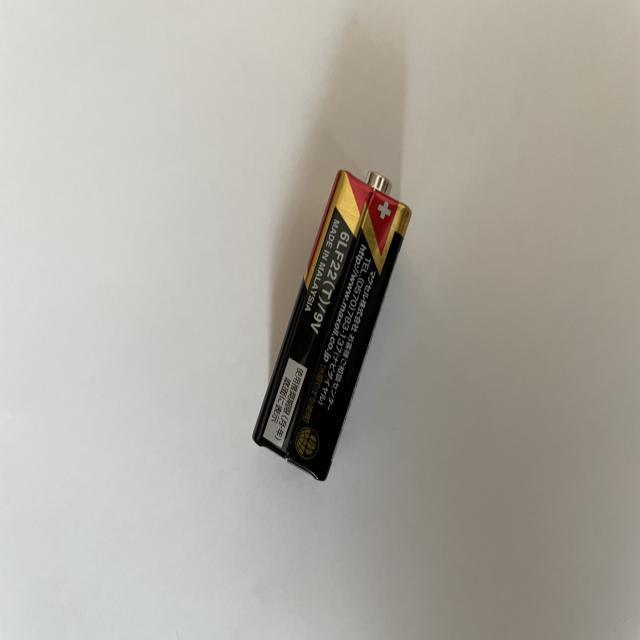9V: (252, 168, 413, 482)
